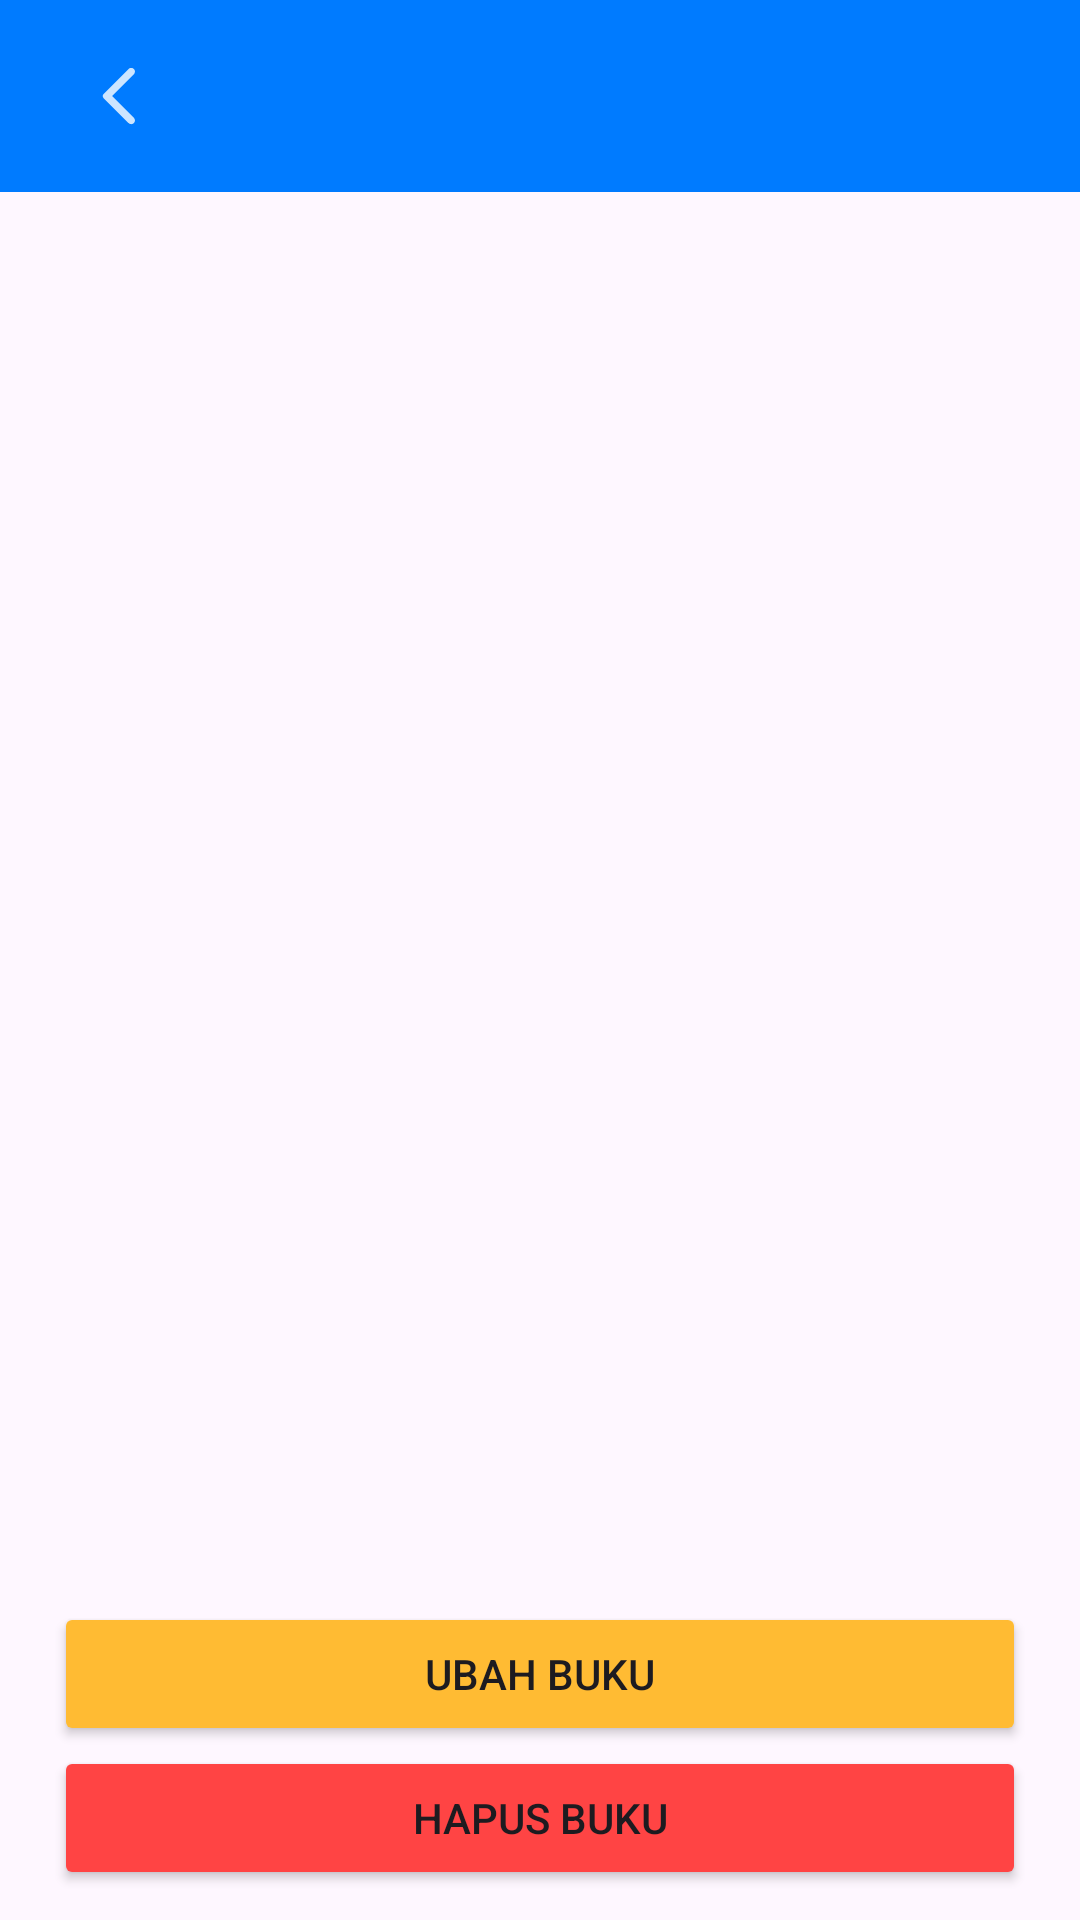

Point at icon controls on the screen. Image size 1080px x 1920px, points as (x,y).
Back: (118,96)
